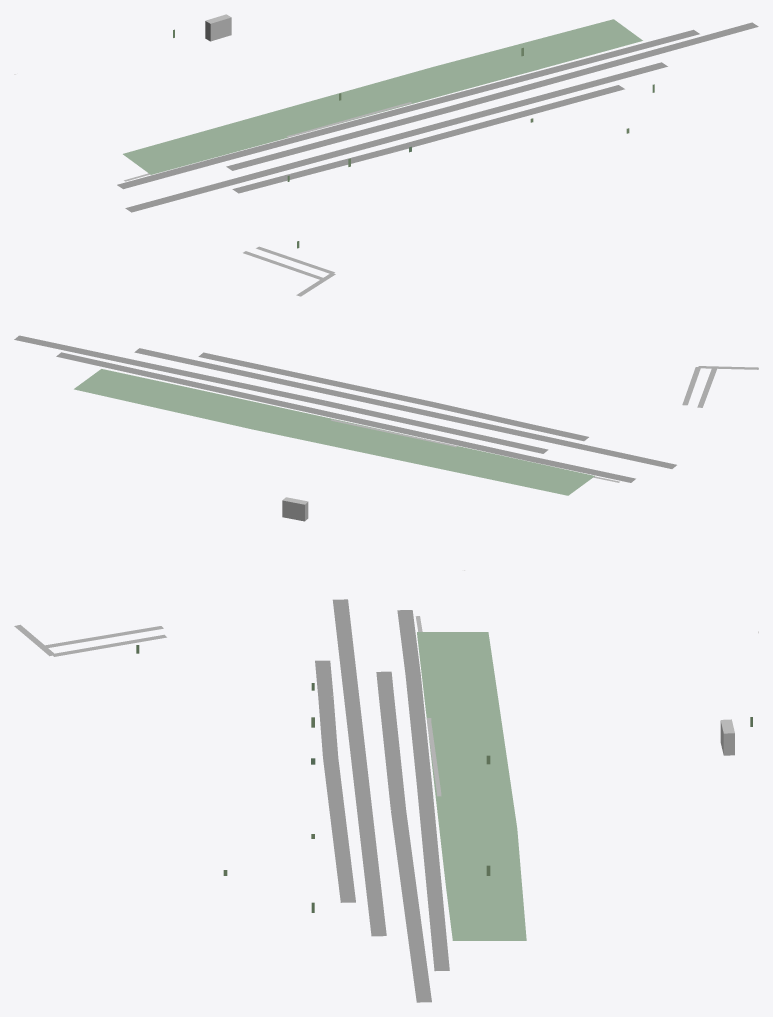
The picture shows the model from 3 angles, top to bottom: view 1: azimuth 30°, elevation 25°; view 2: azimuth 150°, elevation 25°; view 3: azimuth 270°, elevation 25°; orthographic projection. The views are drawn at different scales.
Size of the model in its own units: 653 by 17.71 by 510.
